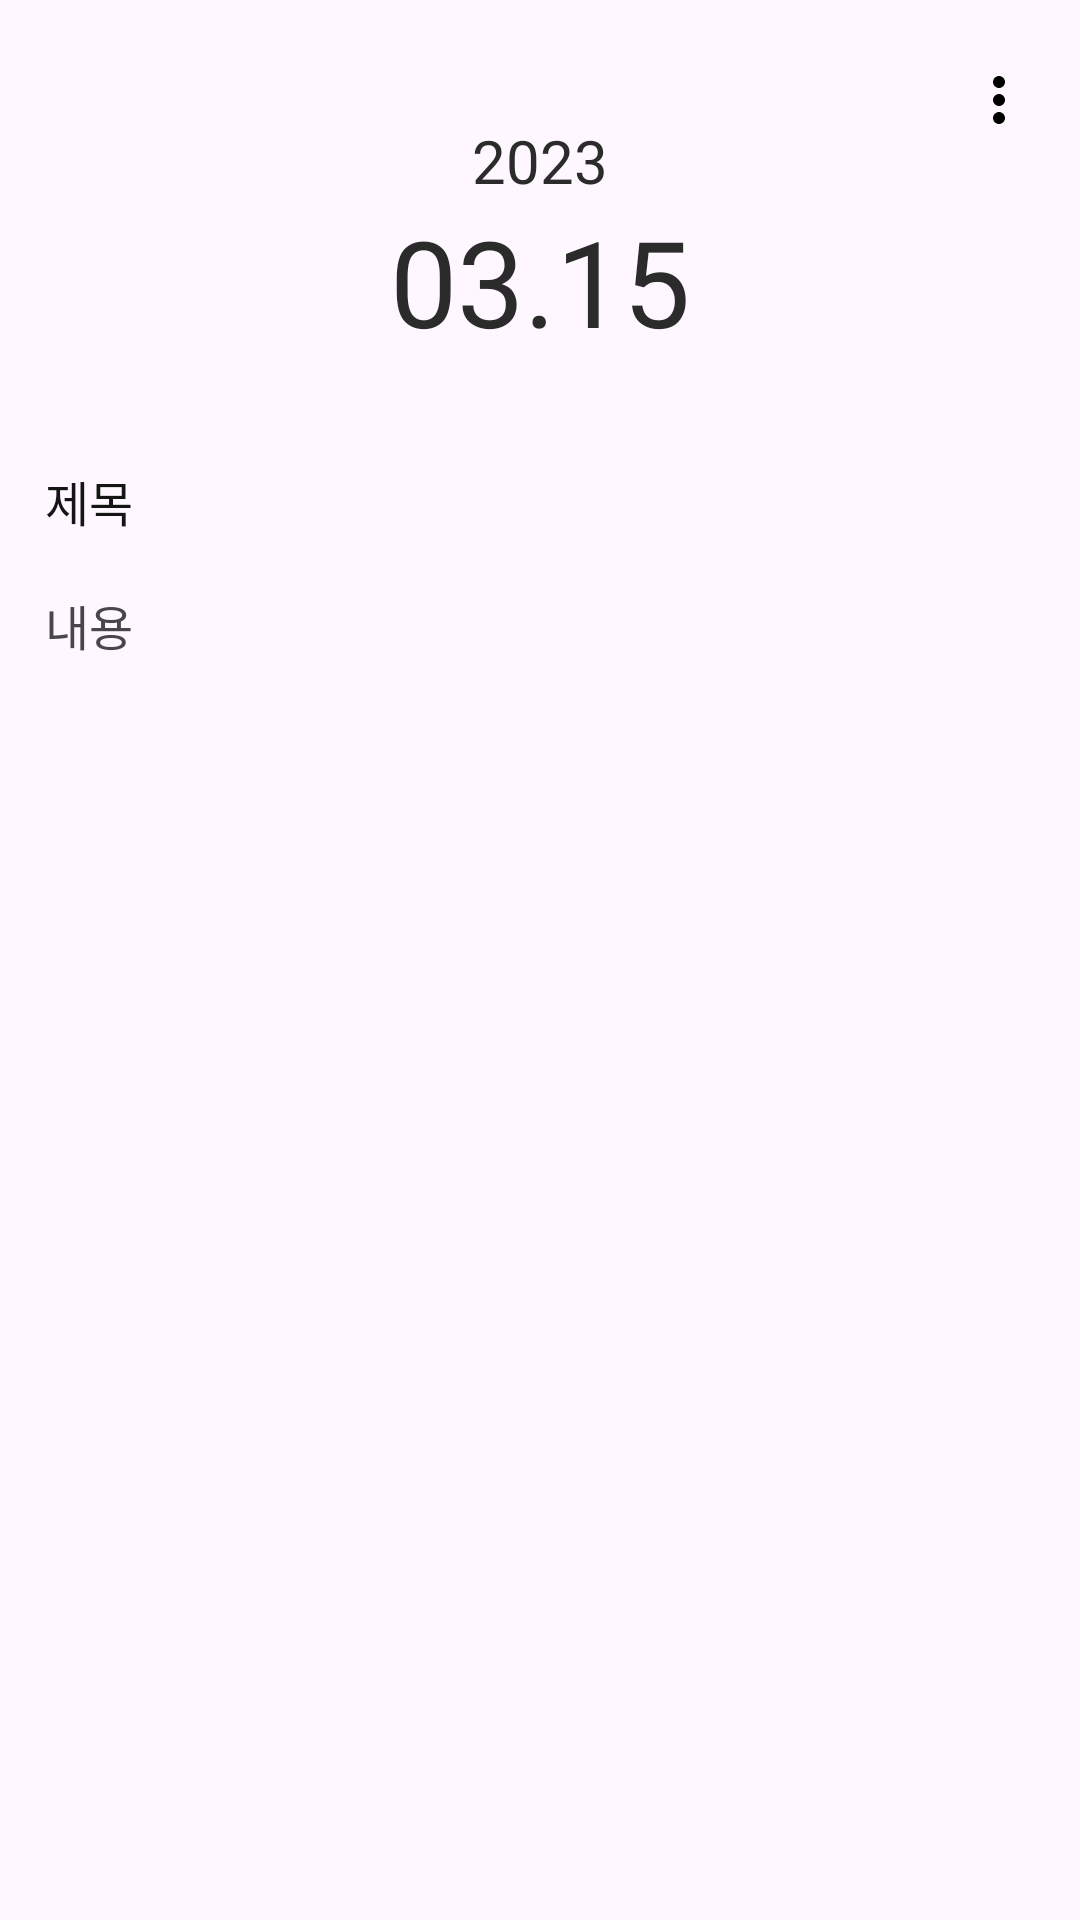

Screen size 1080px x 1920px. Icon name, then its box in pixels as (x1, y1, x2, y2):
more vert: (993, 76, 1005, 124)
